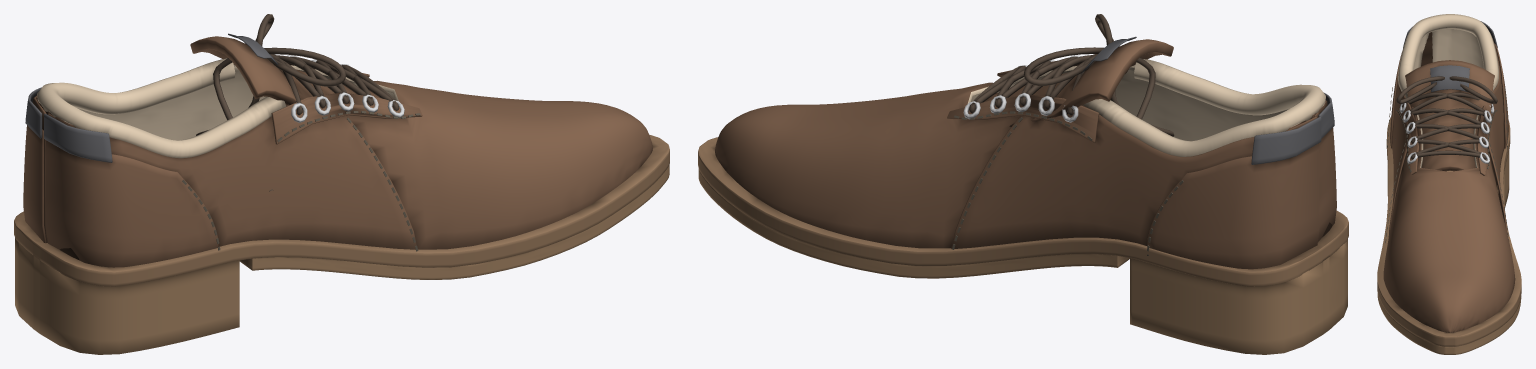
Rendered from derby-plain-lo.glb.
3 views of the same model, side by side, from view 1: azimuth 30°, elevation 25°; view 2: azimuth 150°, elevation 25°; view 3: azimuth 270°, elevation 25° (orthographic). The views are drawn at different scales.
Parts seen in each view (by area): view 1: upper, quarterL, heelblock, heelL, welt, collar, outsole, laces, tongue, eyestayL, heelM, tabL (+2 smaller); view 2: upper, quarterM, heelM, heelblock, welt, collar, outsole, laces, tongue, eyestayM, tabM, heelL (+1 smaller); view 3: upper, welt, tongue, laces, collar, quarterL, quarterM, outsole, label, eyestayL, stitches, heelM (+3 smaller).
Part boxes in pixels (x1,y1,x2,y2): upper: [37, 64, 652, 260]; quarterL: [48, 104, 416, 249]; heelblock: [15, 237, 239, 354]; heelL: [45, 140, 218, 267]; welt: [14, 134, 669, 286]; collar: [37, 58, 286, 158]; outsole: [239, 164, 669, 279]; laces: [196, 14, 399, 191]; tongue: [190, 36, 379, 104]; eyestayL: [271, 93, 422, 144]; heelM: [23, 125, 46, 243]; tabL: [44, 113, 112, 162]; upper: [715, 65, 1332, 248]; quarterM: [951, 105, 1316, 248]; heelM: [1147, 143, 1319, 269]; heelblock: [1130, 239, 1347, 354]; welt: [698, 137, 1348, 286]; collar: [1083, 59, 1325, 156]; outsole: [698, 169, 1129, 278]; laces: [969, 14, 1174, 136]; tongue: [984, 39, 1173, 126]; eyestayM: [947, 95, 1099, 142]; tabM: [1251, 117, 1321, 164]; heelL: [1318, 128, 1336, 241]; upper: [1383, 29, 1515, 332]; welt: [1377, 116, 1521, 346]; tongue: [1405, 60, 1494, 171]; laces: [1395, 76, 1497, 159]; collar: [1398, 14, 1498, 97]; quarterL: [1388, 32, 1432, 236]; quarterM: [1487, 38, 1507, 233]; outsole: [1377, 178, 1521, 354]; label: [1430, 65, 1469, 92]; eyestayL: [1396, 95, 1418, 174]; stitches: [1385, 87, 1509, 242]; heelM: [1494, 43, 1508, 148].
Bounding box in the file's own units: 0.307 × 0.113 × 0.0924.
